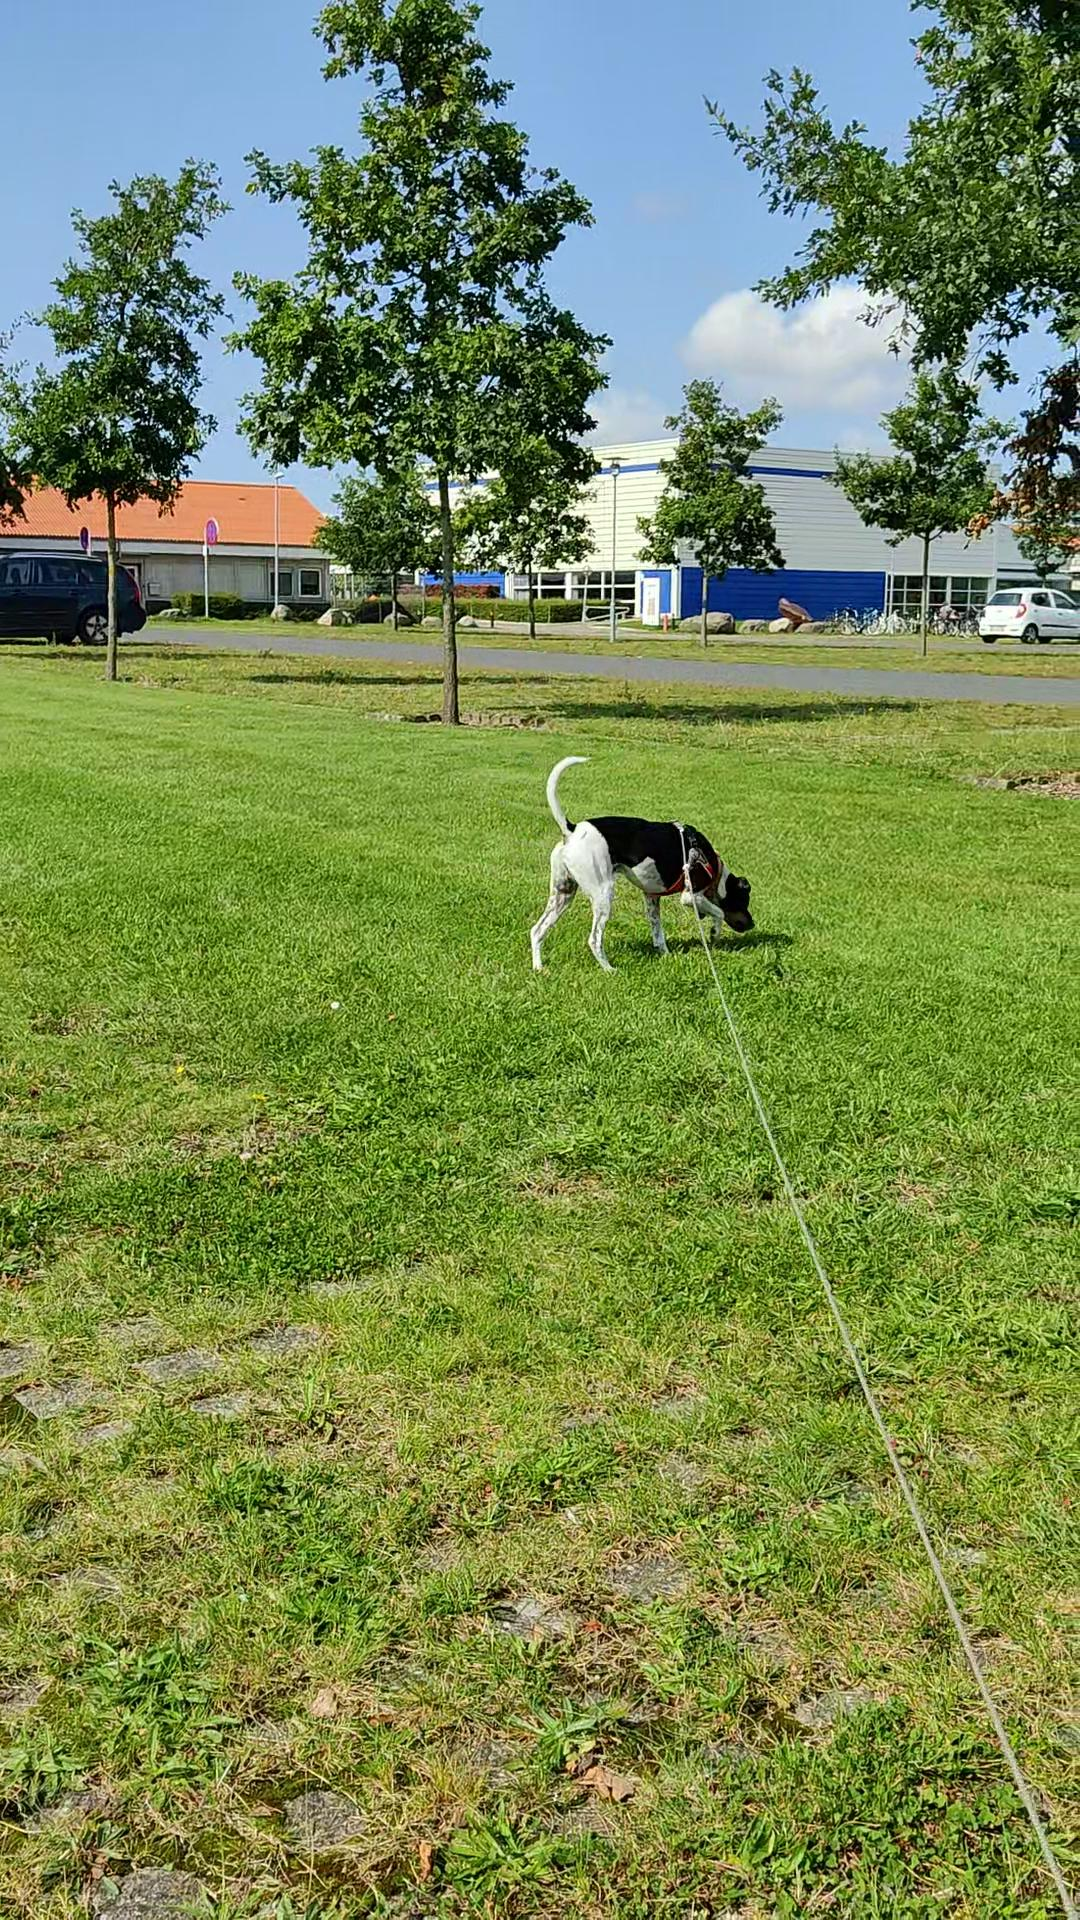Dog: (520, 746, 761, 978)
